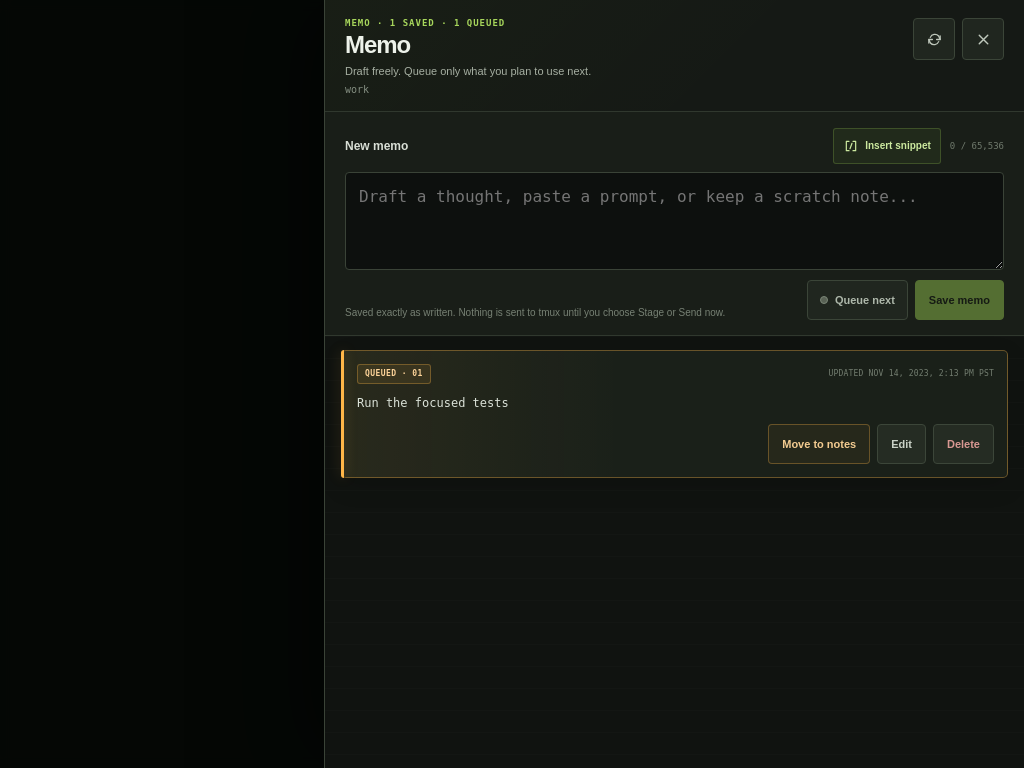
Scenario: MessageQueueDialog › restores page scrolling when Memo and its nested snippet picker unmount together
Expected: the text "Run the focused tests" is shown, [357,396,509,410]
Click the button "Insert snippet" at (887, 146), box [833,128,941,164]
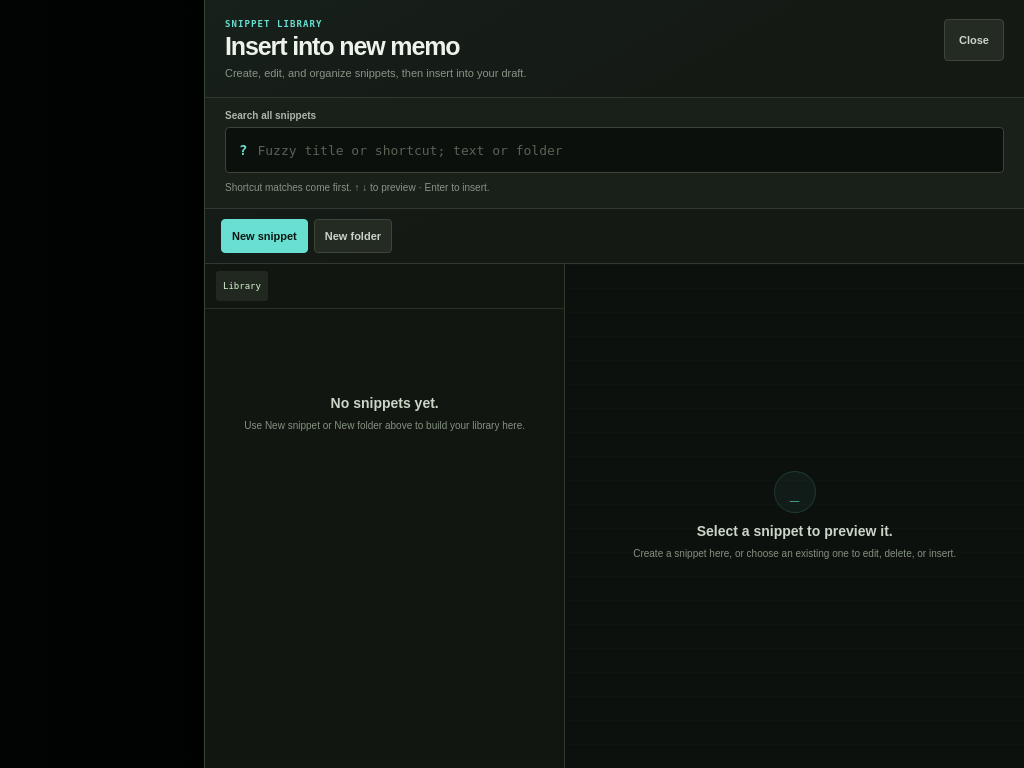
Now the dialog "Insert into new memo" is shown
